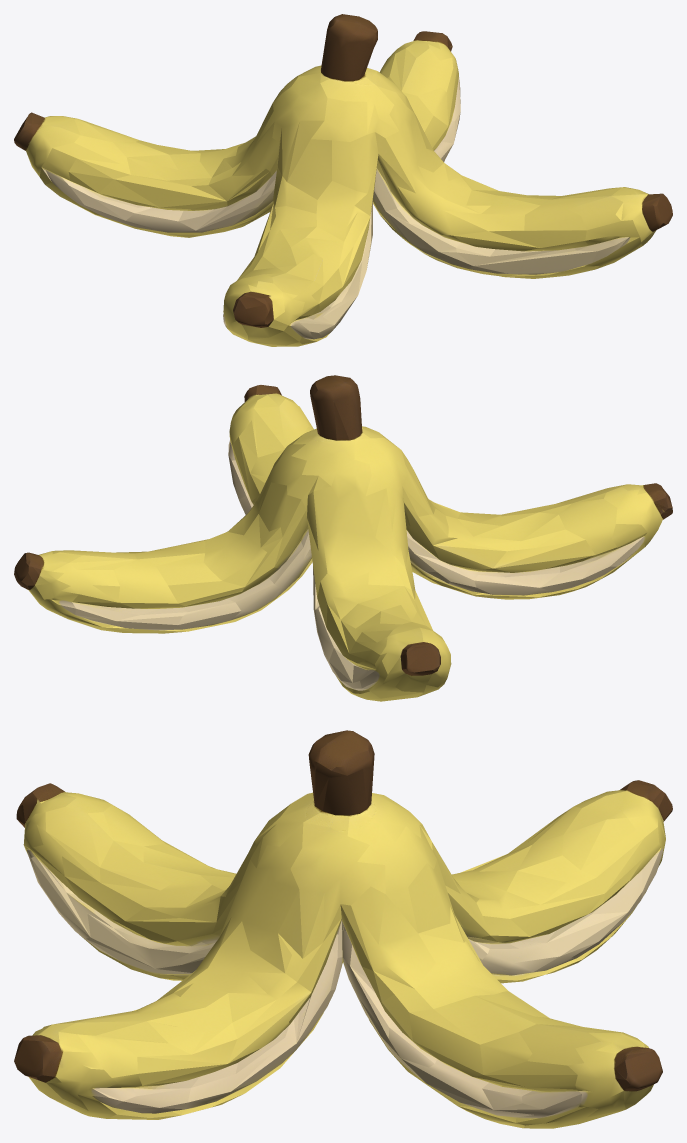
Rendered from banana_peel.glb.
The picture shows the model from 3 angles, top to bottom: view 1: azimuth 30°, elevation 25°; view 2: azimuth 150°, elevation 25°; view 3: azimuth 270°, elevation 25°; orthographic projection. The views are drawn at different scales.
Size of the model in its own units: 1.9 by 0.9565 by 1.89.
Materials: 1 (1 with a texture image).
